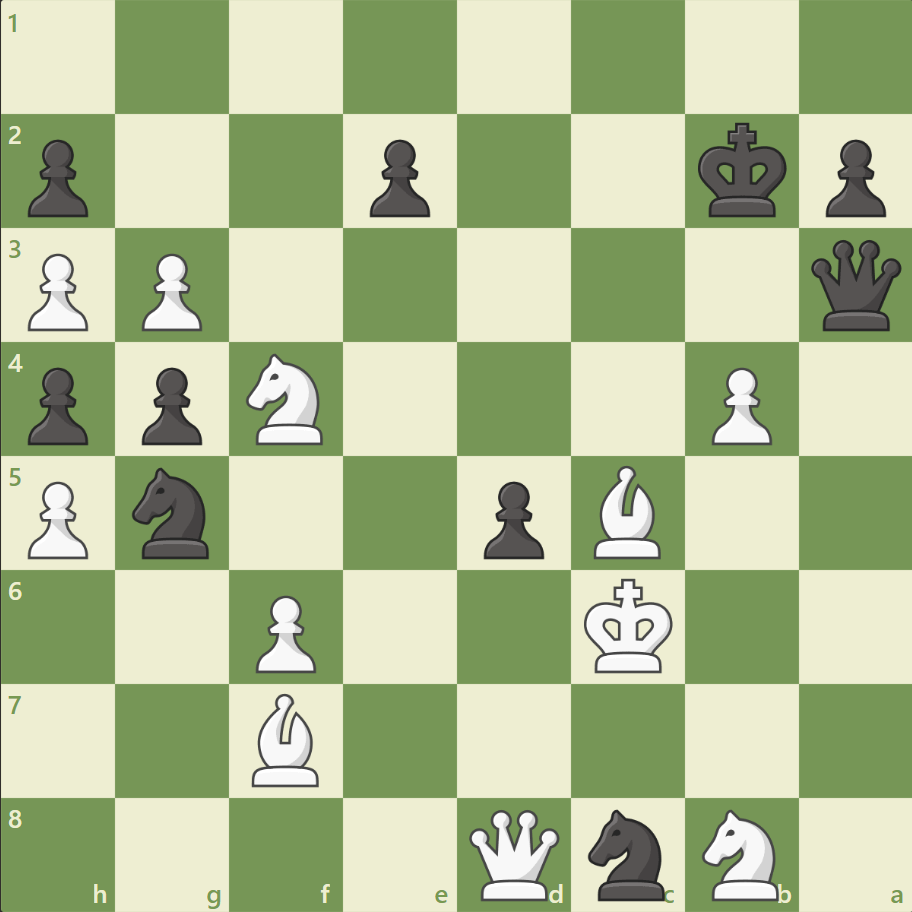B: (244, 687, 328, 790), (585, 460, 669, 563)
K: (579, 571, 679, 679)
N: (692, 802, 789, 904), (238, 348, 335, 450)
P: (247, 586, 322, 677), (20, 473, 95, 564), (701, 359, 776, 450), (133, 246, 208, 337), (20, 246, 95, 337)
Q: (464, 804, 563, 903)
k: (692, 117, 792, 225)
n: (124, 461, 222, 564), (579, 802, 676, 904)
p: (474, 473, 549, 564), (133, 359, 208, 450), (20, 359, 95, 450), (20, 132, 95, 223), (815, 132, 889, 223), (361, 132, 435, 223)
q: (805, 236, 904, 335)
